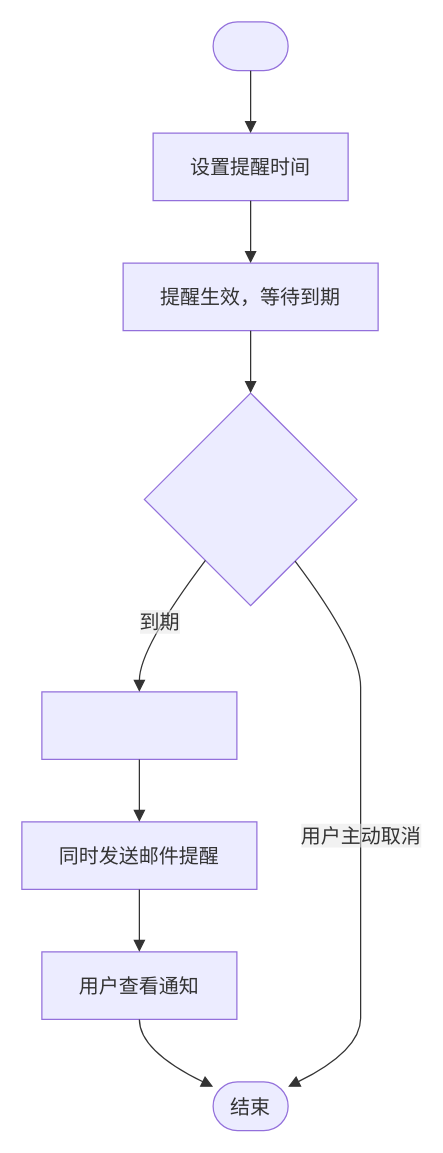
This 443x1153 diagram has some shape labels left out. The centre of each missing label's shape, as x and y in pixels:
"开始" goes at (250,46).
"提醒如何结束" goes at (250,499).
"生成站内通知" goes at (139,725).
